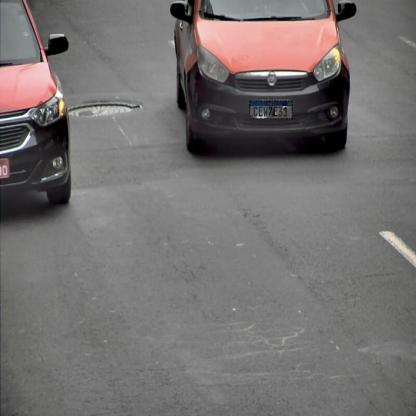PlacaM: (249, 101, 293, 119)
